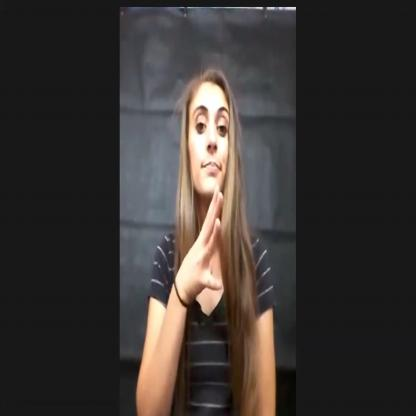Talk: (172, 180, 250, 324)
